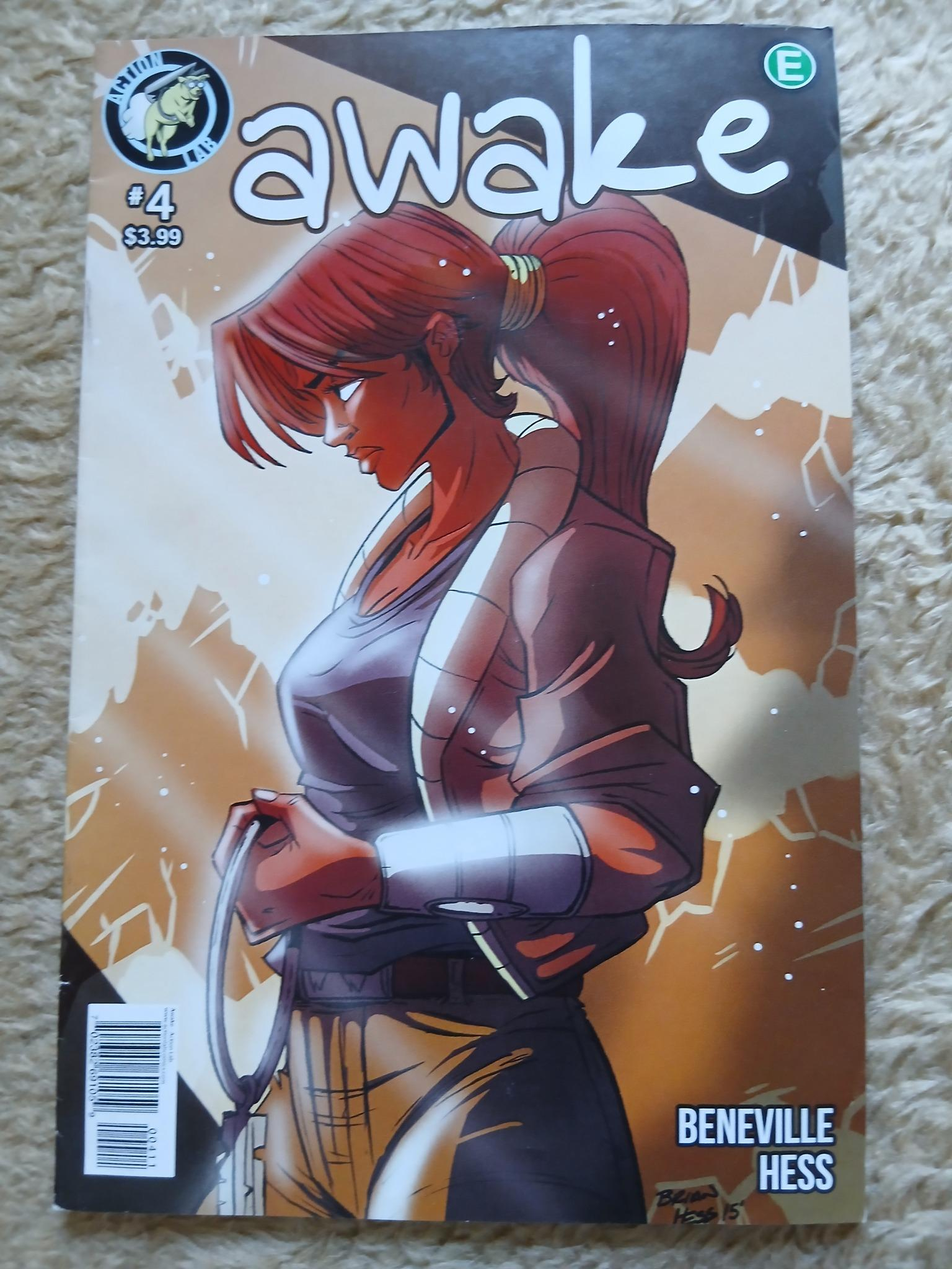comic: (56, 16, 881, 1225)
